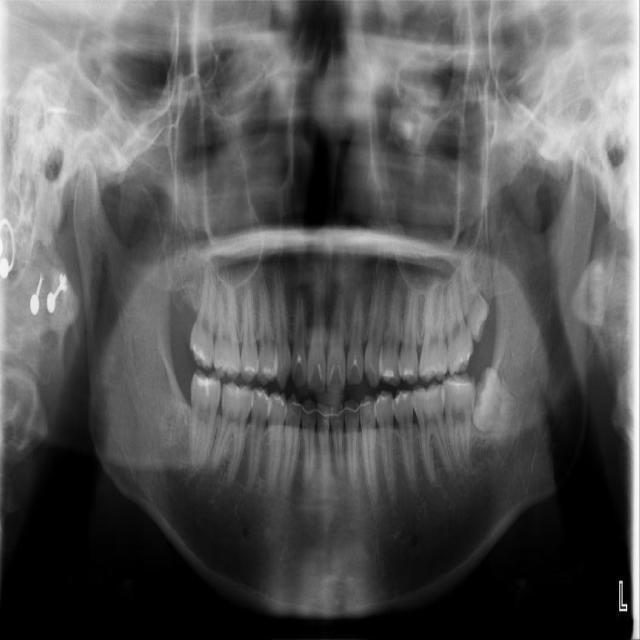Filling: (193, 376, 219, 396)
impacted tooth: (474, 364, 519, 432)
